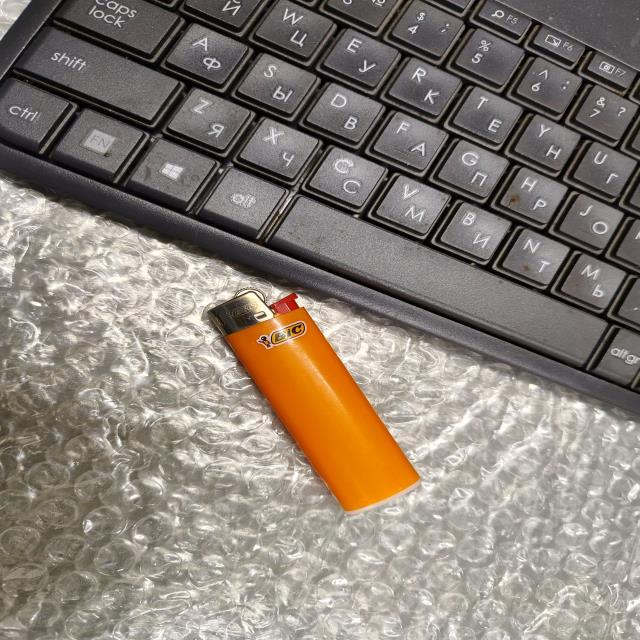lighter: (208, 290, 419, 511)
